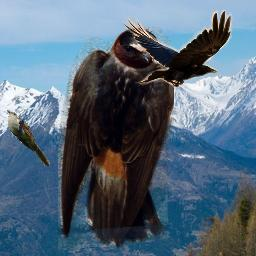Crow: (122, 10, 233, 88)
Cuckoo: (7, 110, 50, 166)
Swallow: (58, 27, 174, 250)
